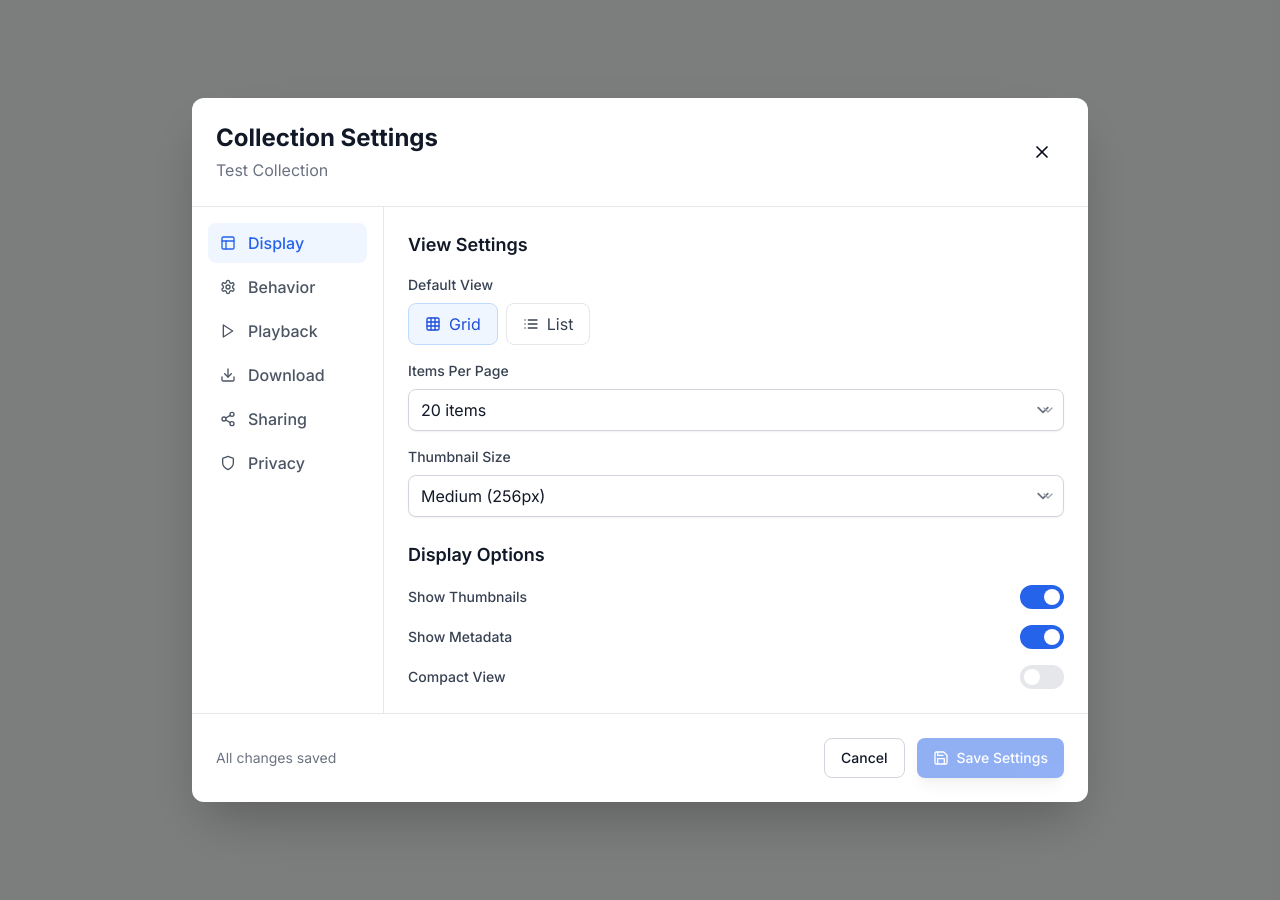
it: CollectionSettings › switches to Download tab
Click the button "Download": x=288, y=375 [208,355,367,395]
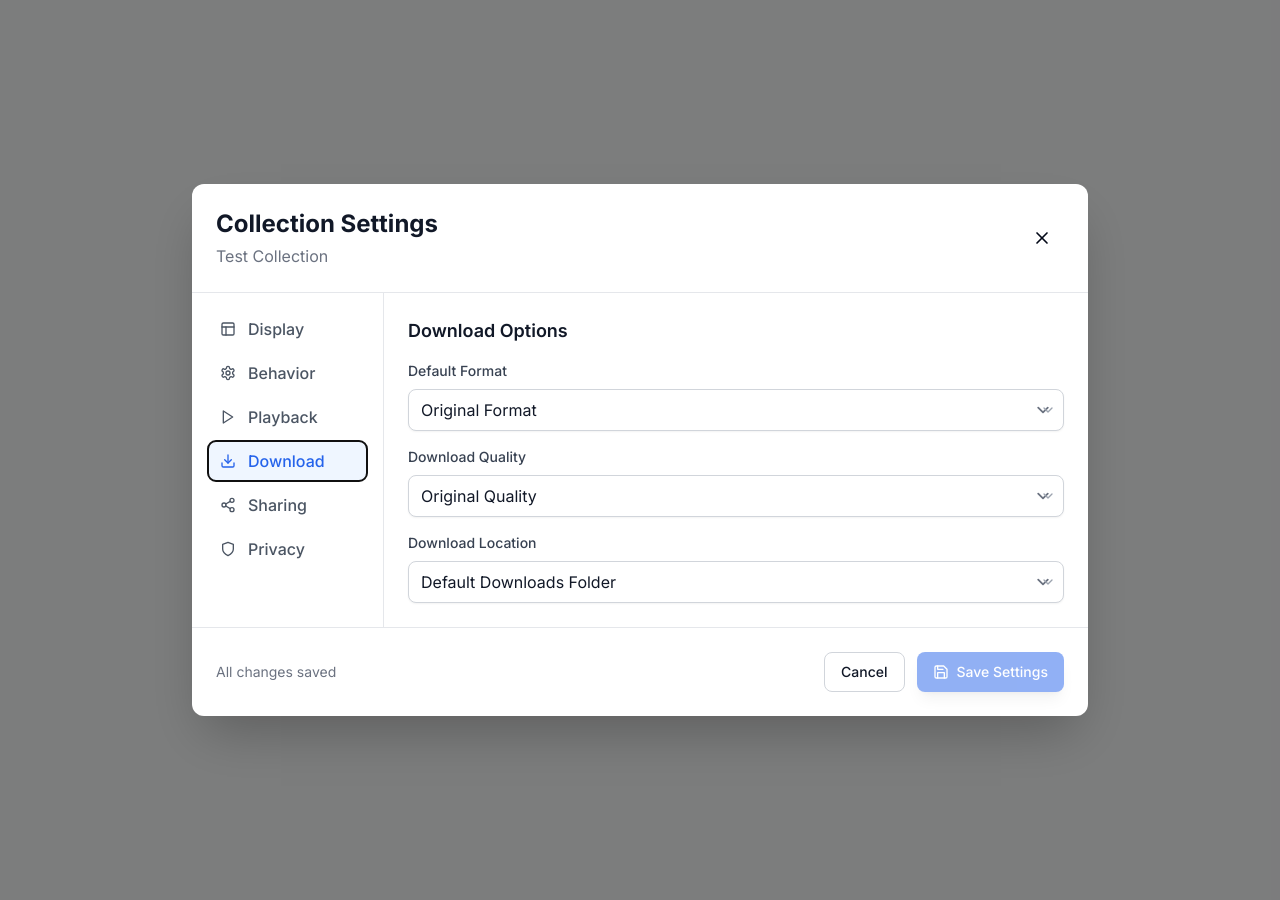
Now the heading "Download Options" is shown, box [408,320,568,341]
Now the text "Default Format" is shown, box [408,362,507,379]
Now the text "Download Quality" is shown, box [408,448,526,465]
